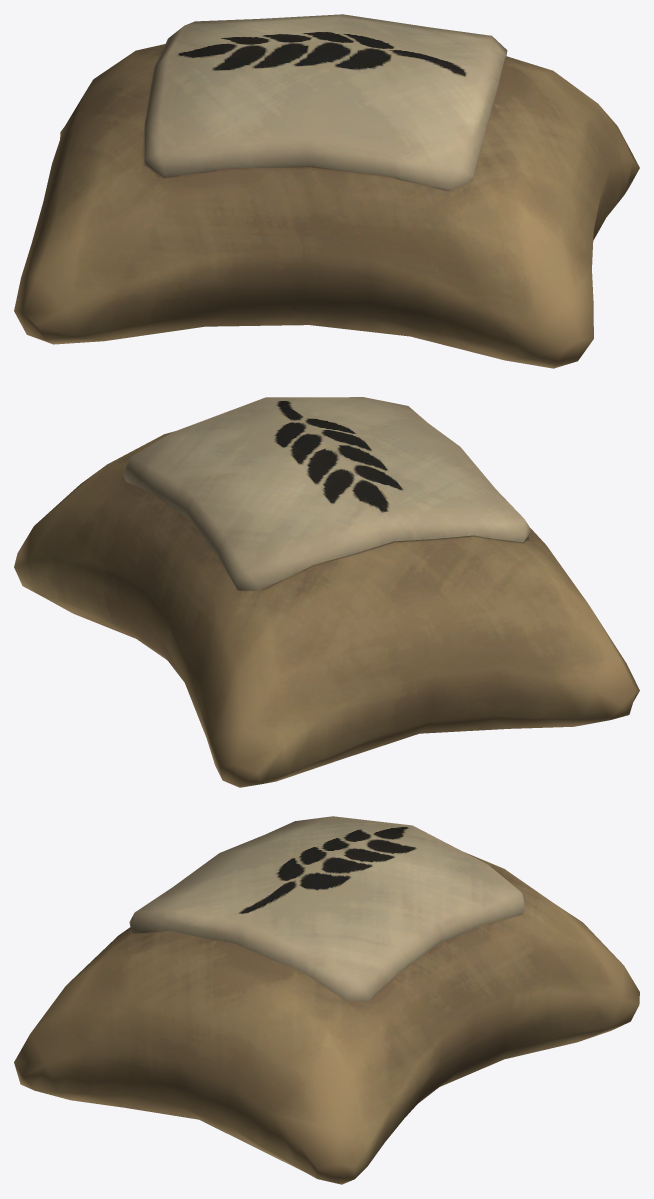
Rendered from m_ingredients_flour_01.fbx.
The picture shows the model from 3 angles, top to bottom: view 1: azimuth 30°, elevation 25°; view 2: azimuth 150°, elevation 25°; view 3: azimuth 270°, elevation 25°; orthographic projection. The views are drawn at different scales.
Parts seen in each view (by area): view 1: m_ingredients_flour_01; view 2: m_ingredients_flour_01; view 3: m_ingredients_flour_01.
Part boxes in pixels (box(x1,y1,x2,y2)): m_ingredients_flour_01: box(14, 14, 639, 368); m_ingredients_flour_01: box(14, 397, 639, 787); m_ingredients_flour_01: box(14, 816, 639, 1184).
Size of the model in its own units: 102 by 37.56 by 98.42.
1 material, 1 textured.
